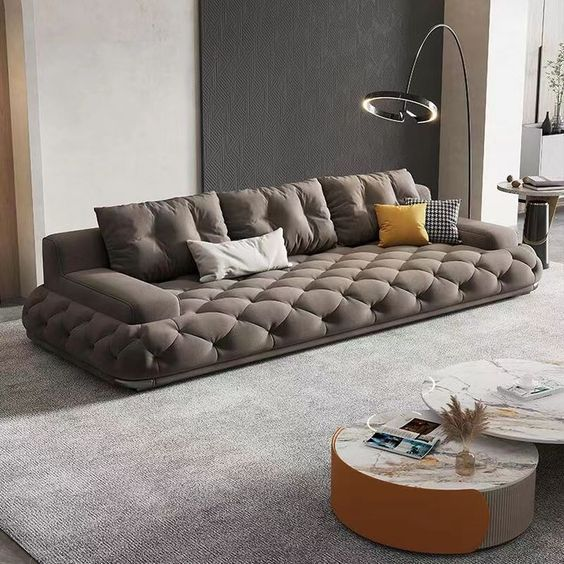3seatersofa: (24, 169, 541, 388)
backrest: (48, 169, 429, 282)
base: (18, 282, 537, 390)
leftarmrest: (459, 218, 518, 249)
pillow: (189, 229, 287, 282), (374, 201, 458, 247)
seat: (23, 245, 540, 381)
